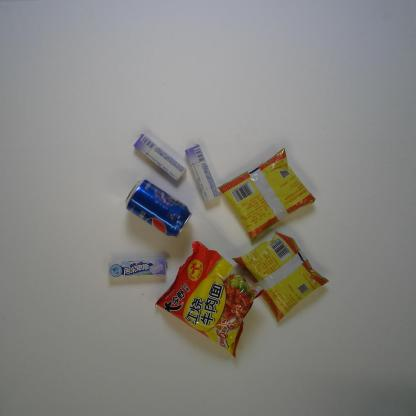Candy: (132, 133, 187, 181), (184, 143, 222, 204), (107, 258, 167, 280)
Drink: (123, 178, 193, 239)
Instant Noodles: (153, 240, 268, 360)
Seasoner: (216, 146, 316, 243), (231, 230, 330, 324)
